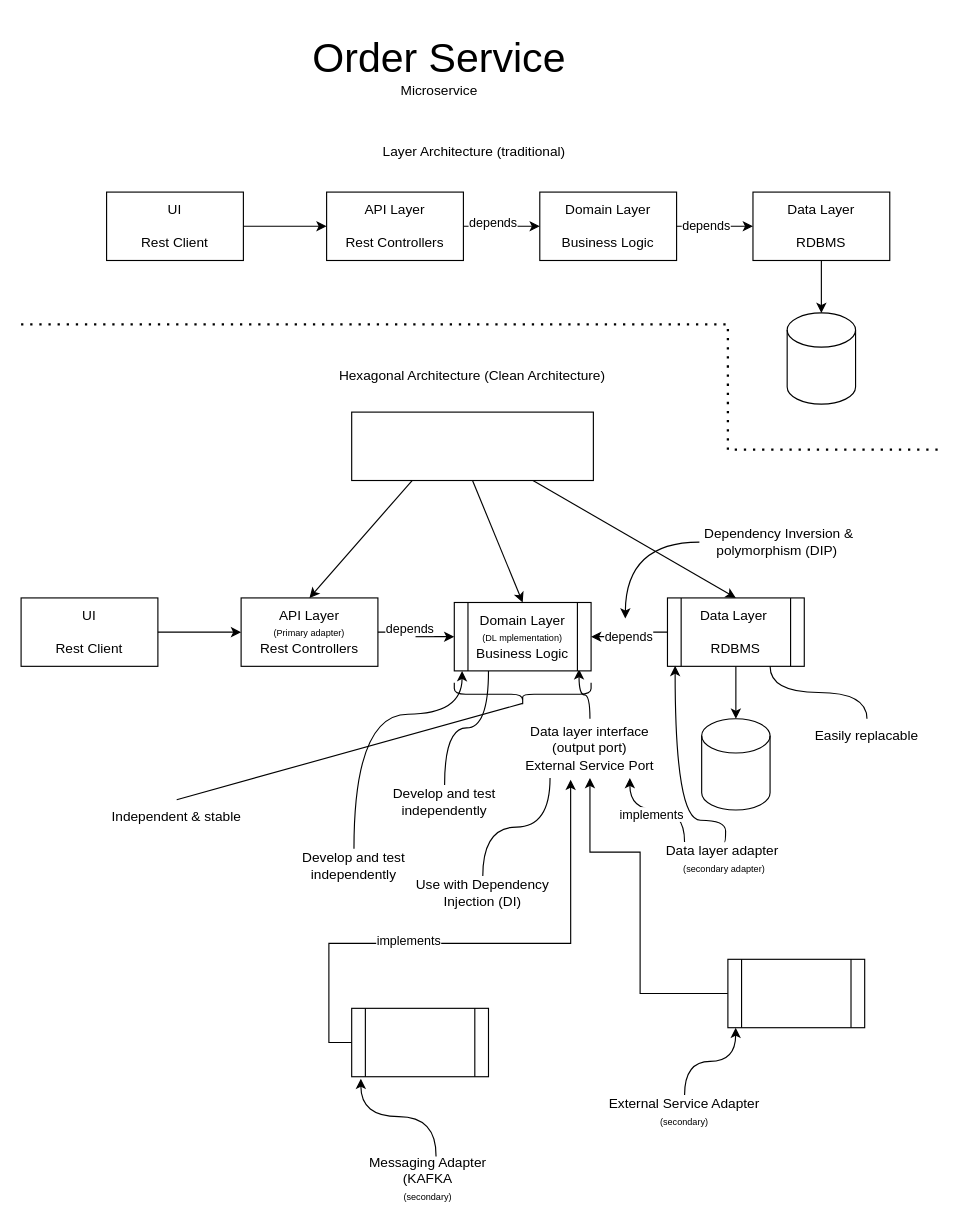
Image size: 966x1222. Some labels were removed from this diagram. The shapes that lost their labels are listed below. From the top down, each one's centre as x and y in pixels, then its label:
At (472,446): "Container Springboot".
At (796,993): "External Service".
At (419,1042): "Messaging component".
